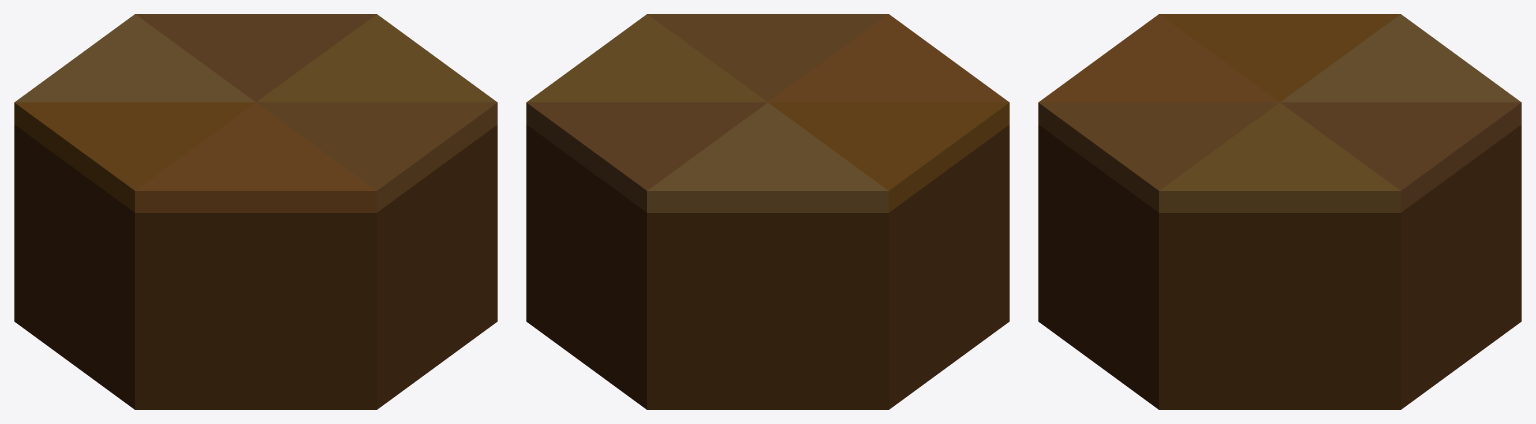
File: wasteland.glb
3 views of the same model, side by side, from view 1: azimuth 30°, elevation 25°; view 2: azimuth 150°, elevation 25°; view 3: azimuth 270°, elevation 25° (orthographic).
Parts seen in each view (by area): view 1: wasteland; view 2: wasteland; view 3: wasteland.
Part boxes in pixels (x1,y1,x2,y2): wasteland: (14,14,497,409); wasteland: (526,14,1009,409); wasteland: (1038,14,1521,409).
Bounding box in the file's own units: 1.73 × 1 × 2.
